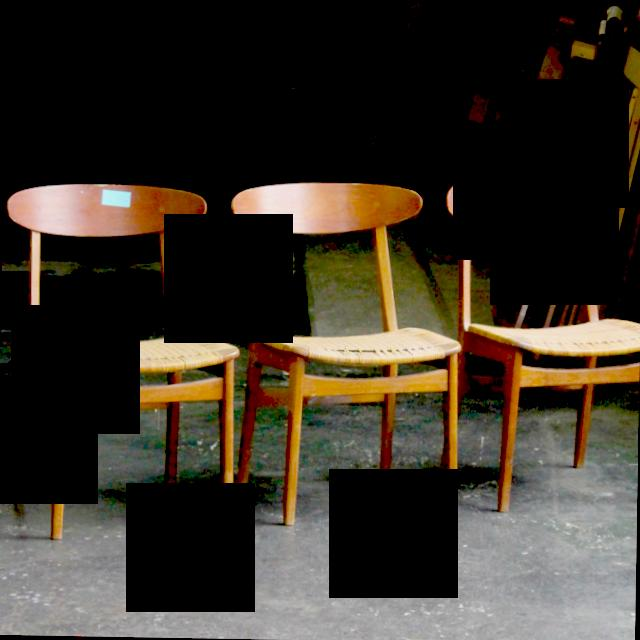chair vintage: (1, 164, 244, 546)
